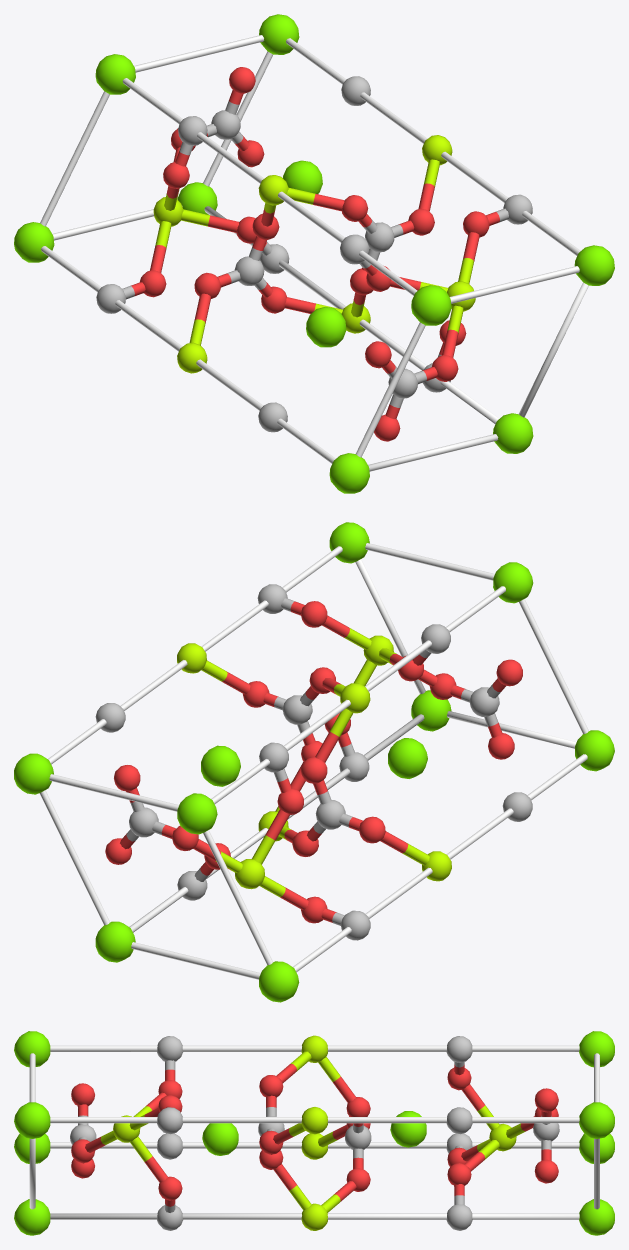
File: Dolomita.fbx
3 renders of one model, top to bottom at view 1: azimuth 30°, elevation 25°; view 2: azimuth 150°, elevation 25°; view 3: azimuth 270°, elevation 25°, orthographic. The views are drawn at different scales.
Visible parts, largest first — view 1: limites.015, O.004, Ca.002, C, Mg; view 2: limites.015, O.004, Ca.002, C, Mg; view 3: limites.015, O.004, Ca.002, C, Mg.
Part boxes in pixels (x1,y1,x2,y2): limites.015: [40, 35, 588, 471]; O.004: [130, 67, 499, 441]; Ca.002: [14, 14, 614, 493]; C: [96, 76, 532, 432]; Mg: [153, 135, 475, 373]; limites.015: [39, 543, 588, 979]; O.004: [105, 601, 522, 923]; Ca.002: [14, 522, 614, 1002]; C: [95, 584, 532, 940]; Mg: [177, 628, 451, 897]; limites.015: [29, 1045, 599, 1219]; O.004: [71, 1063, 558, 1206]; Ca.002: [14, 1031, 614, 1235]; C: [70, 1036, 559, 1230]; Mg: [100, 1035, 525, 1230].
Bounding box in the file's own units: 19.15 × 12.1 × 39.76.
